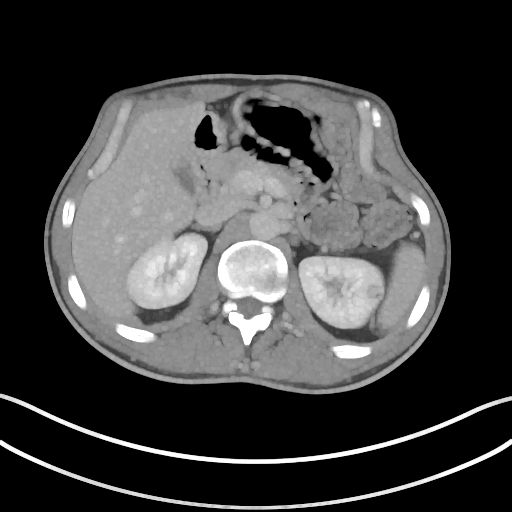Lesion: (365, 283, 383, 298)
